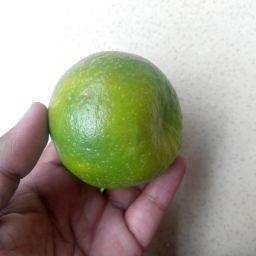Unripe: (49, 48, 183, 191)
